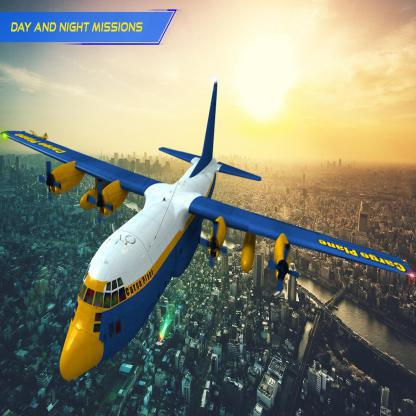CIV_Plane: (0, 77, 406, 386)
